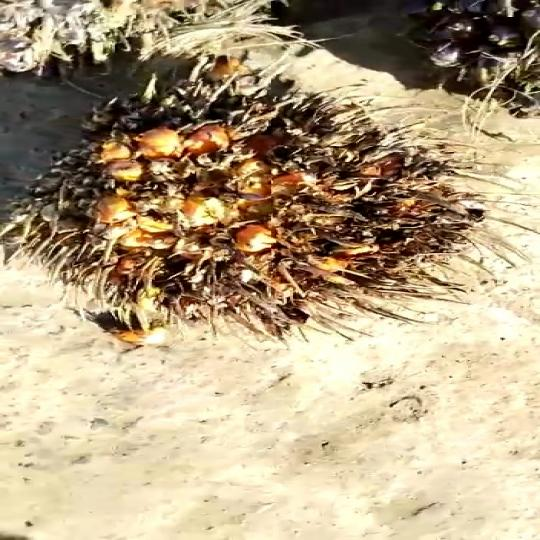terlalu masak: (10, 46, 511, 340)
